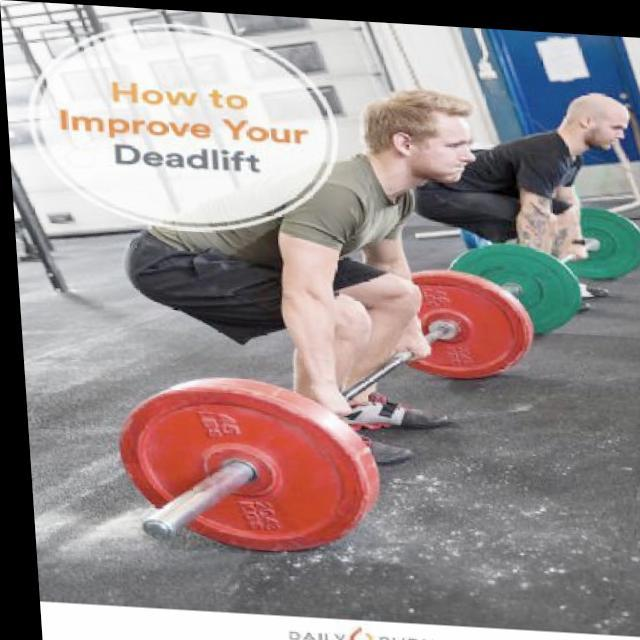barbell: (106, 374, 368, 552)
